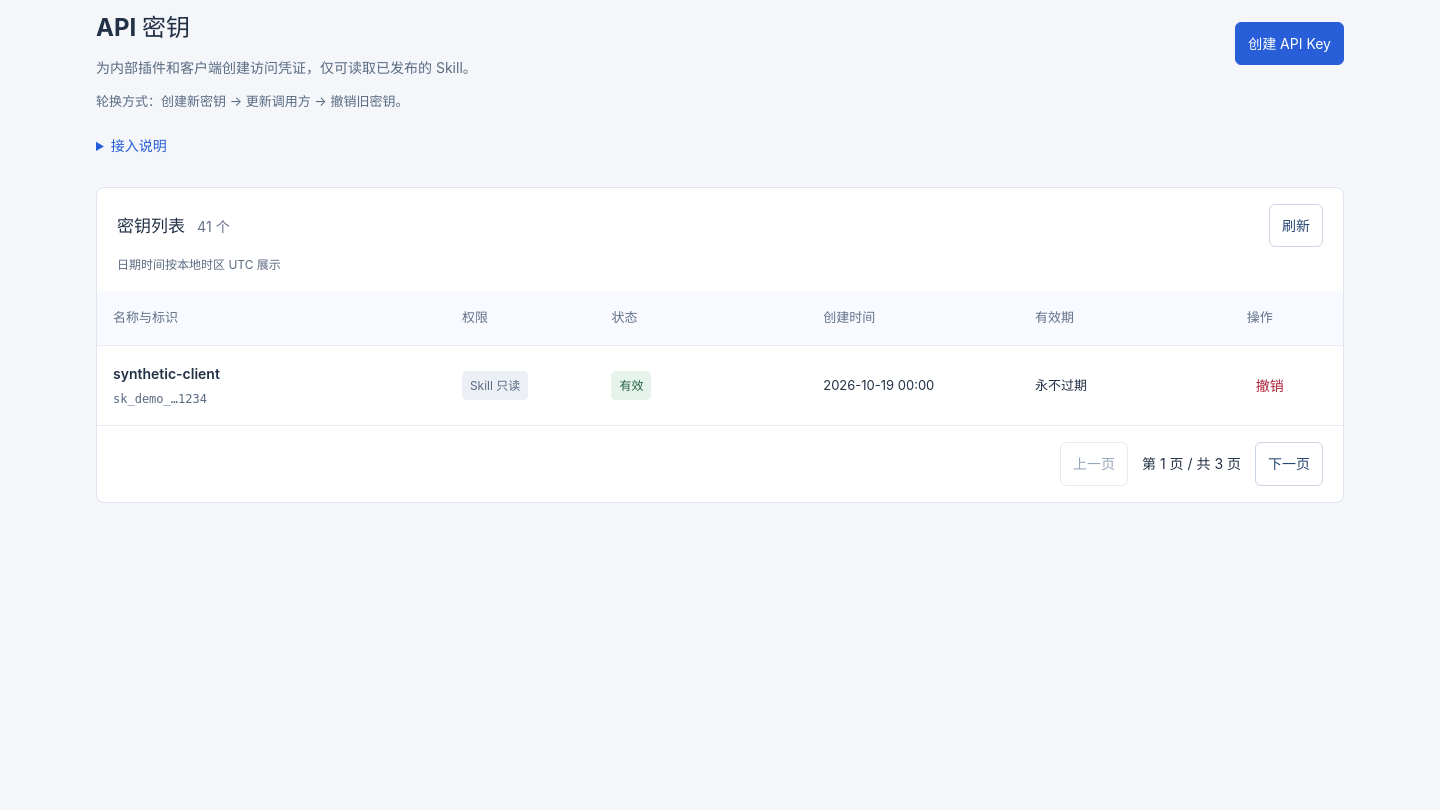
Test case: API Key 安全交互 › 复制失败选中明文供手动保存，不影响创建结果
The width and height of the screenshot is (1440, 810).
Click the button "创建 API Key" at (1290, 43), box [1235,22,1344,65]
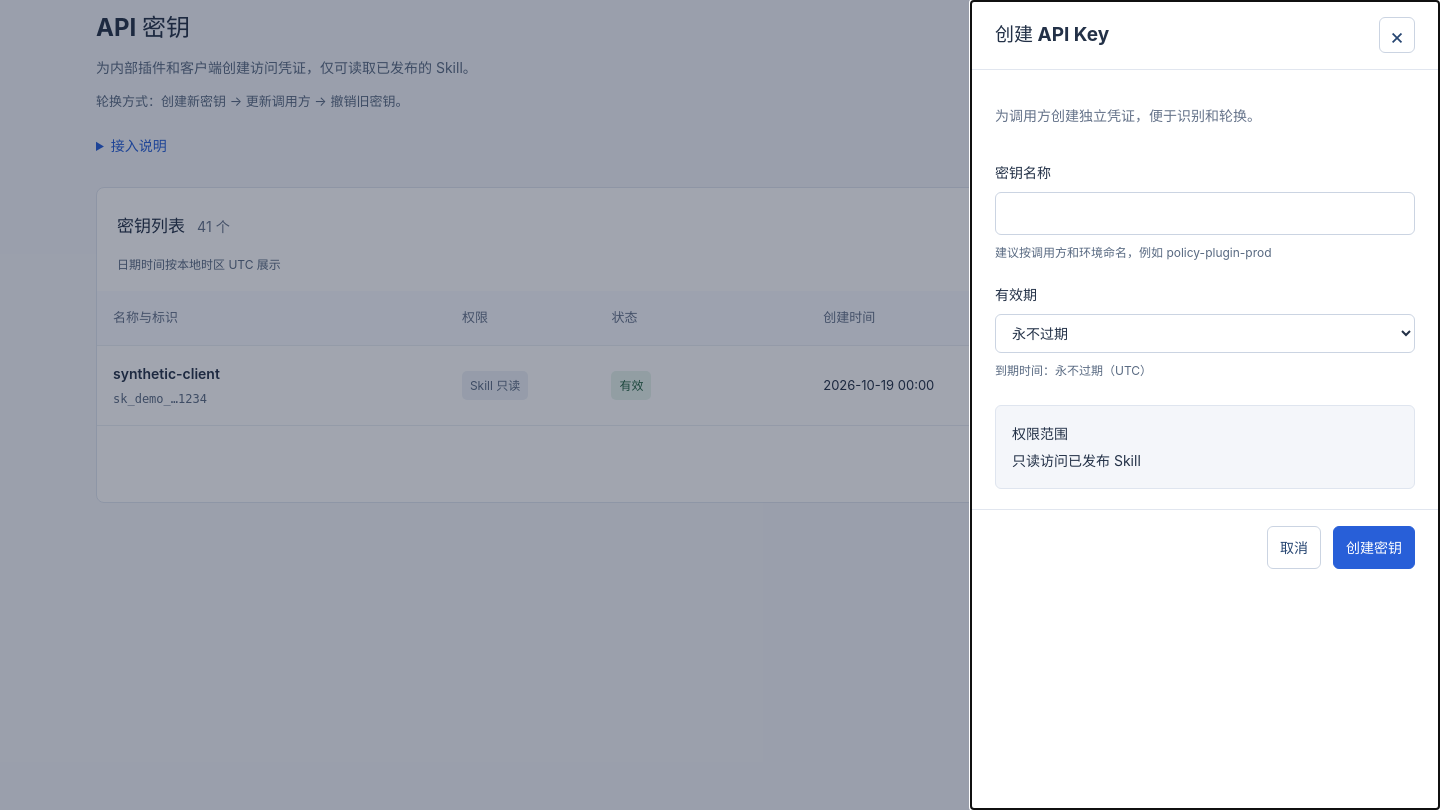
Type "saved-draft" into the field with id "key-name" at (1205, 214), box [995,192,1415,235]
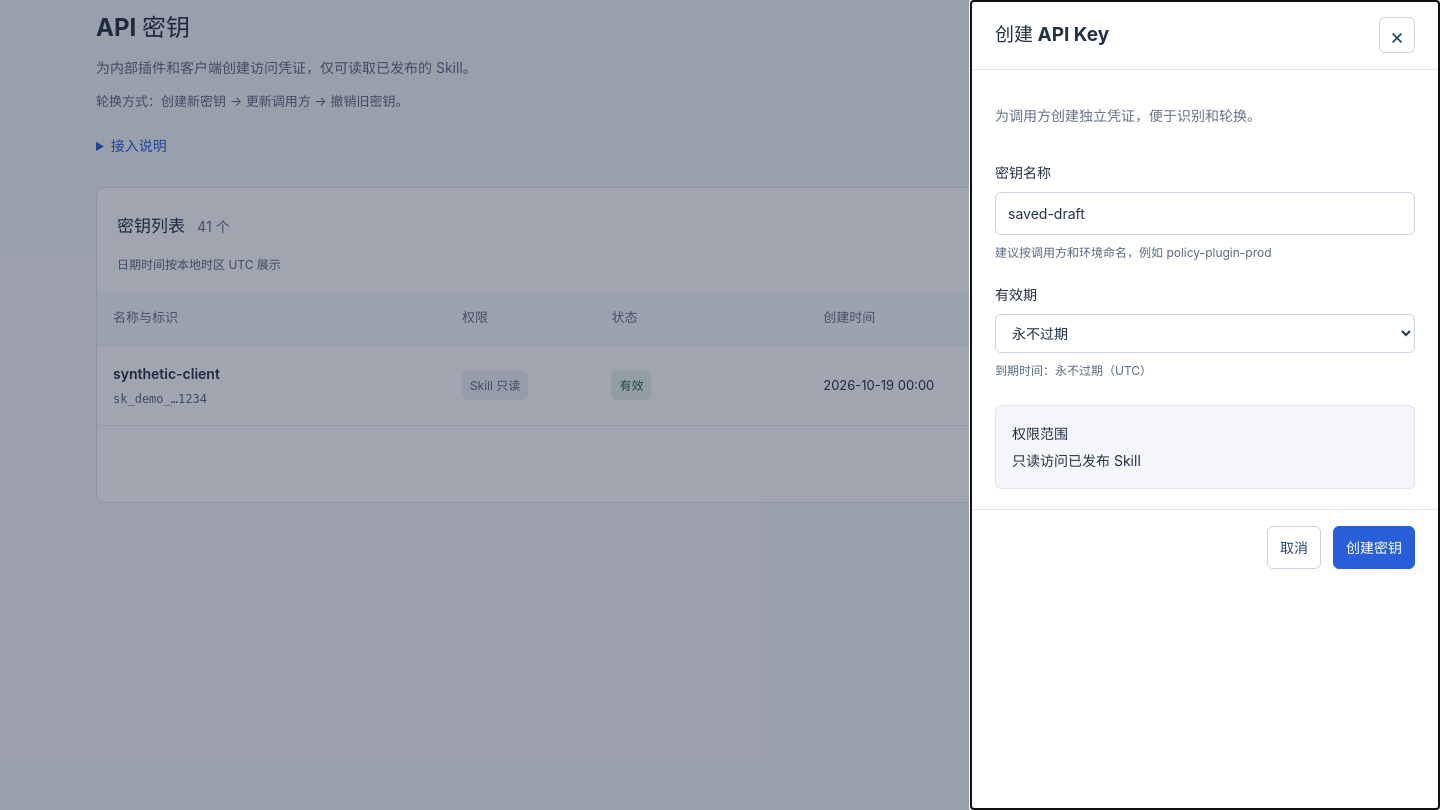
Submit the form, box [971,70,1439,809]
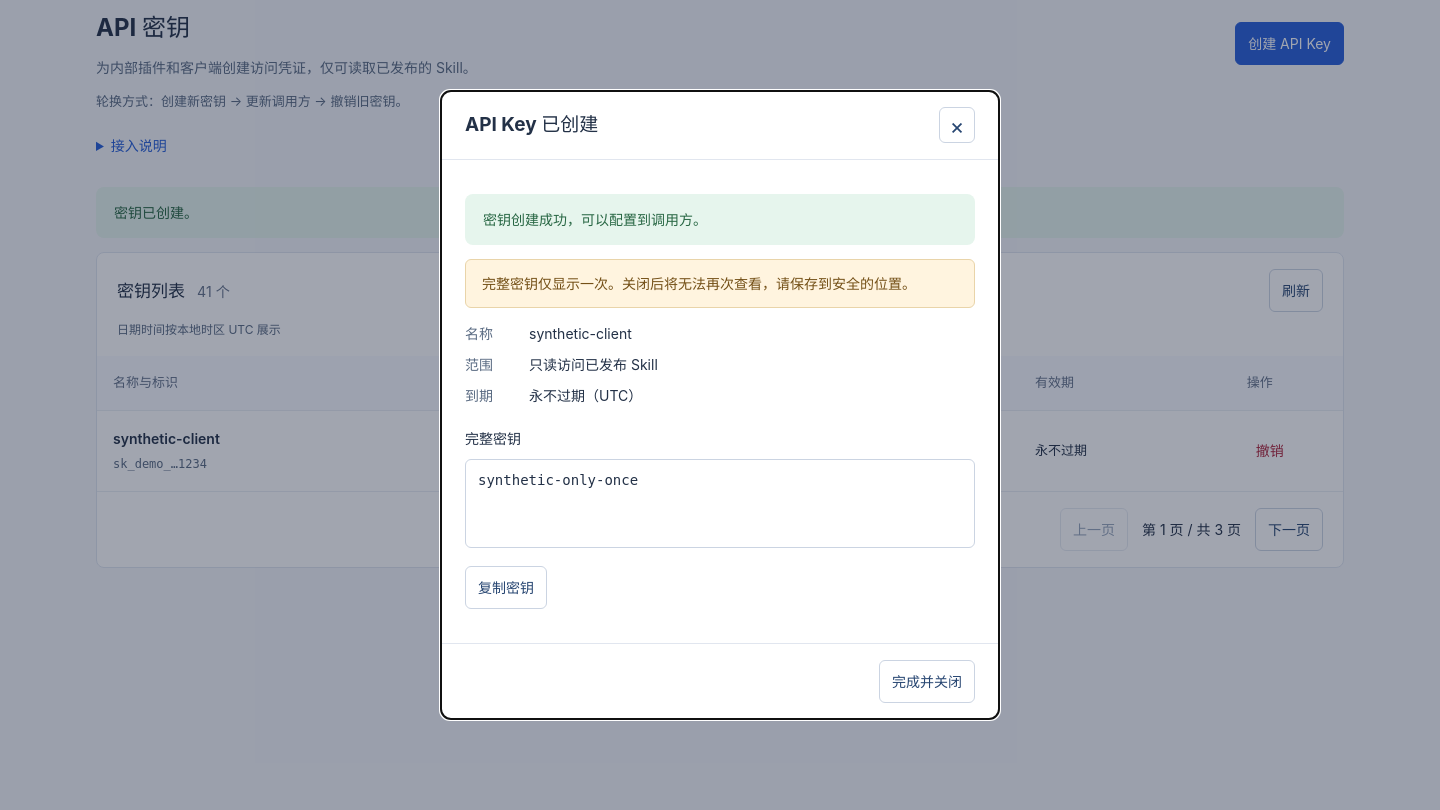
Click the button "复制密钥" at (506, 587), box [465,566,547,609]
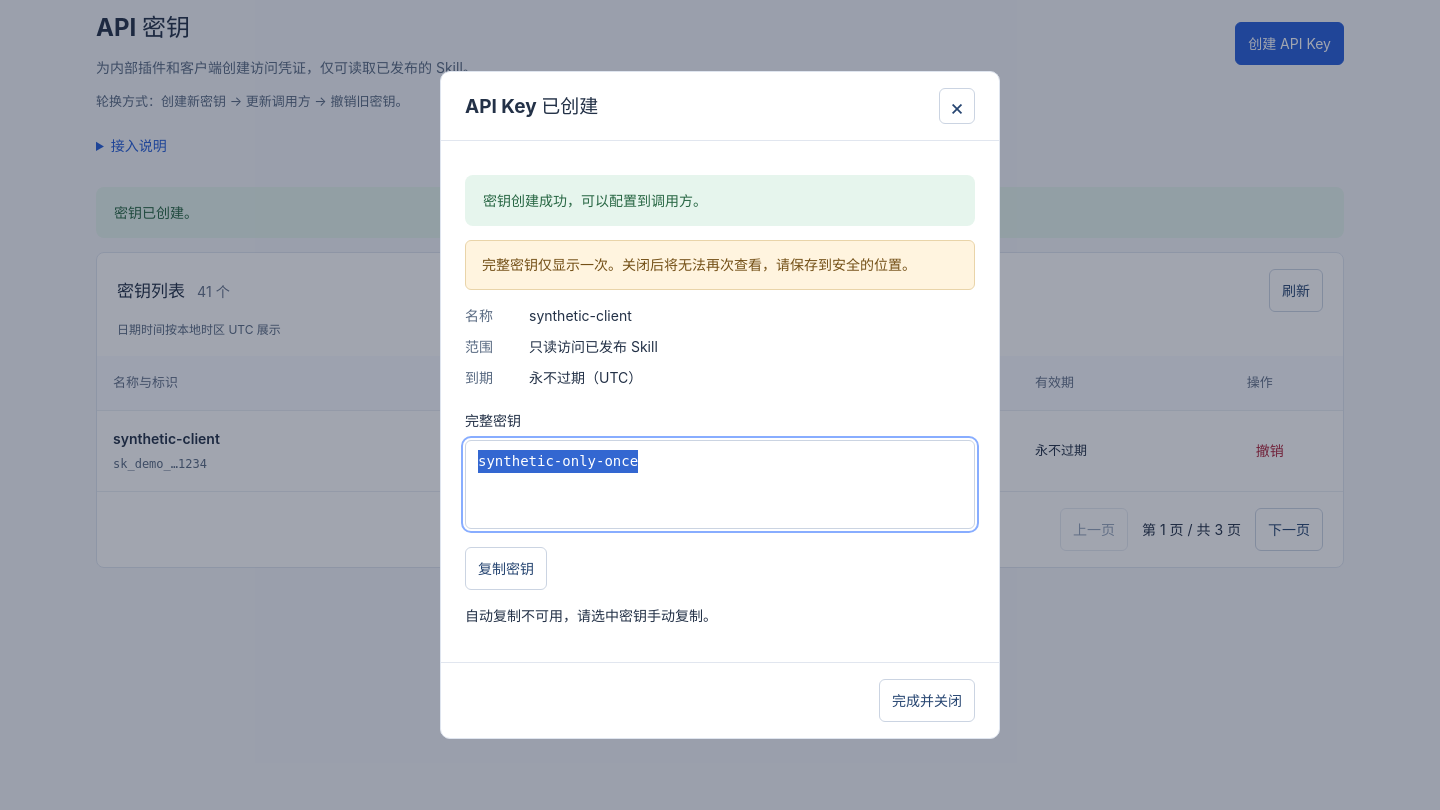
Check: the text "自动复制不可用" is shown, box [465,607,717,624]
